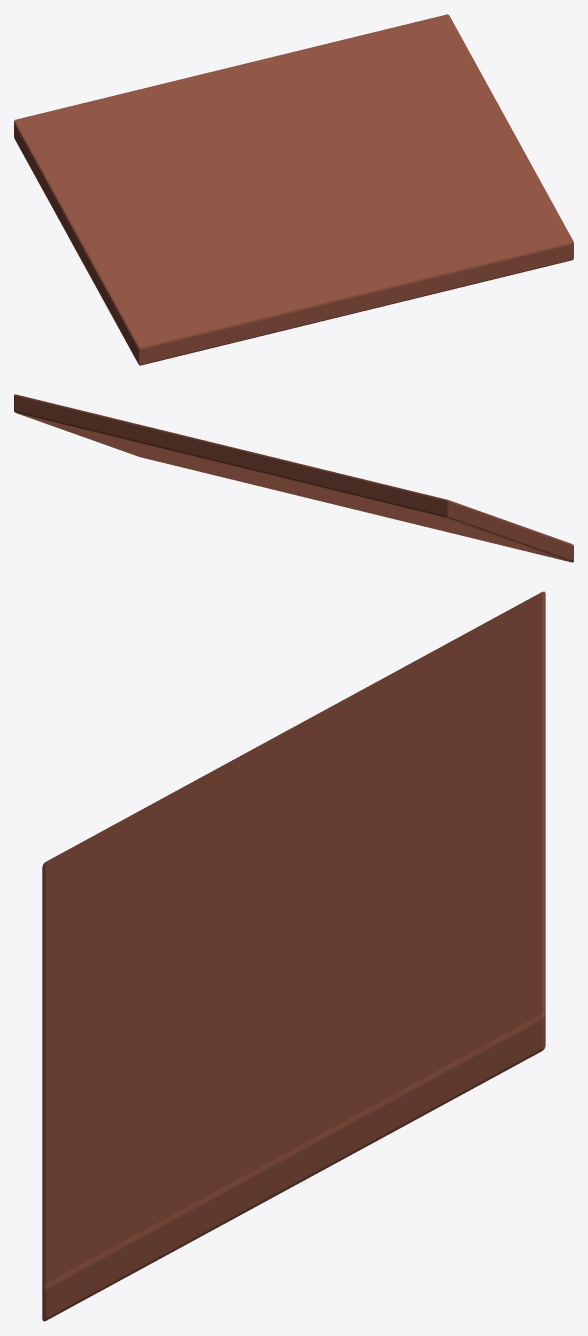
Rendered from roof_gable_slope_4p4x2p2.glb.
3 views of the same model, one above another, from view 1: azimuth 30°, elevation 25°; view 2: azimuth 150°, elevation 25°; view 3: azimuth 270°, elevation 25° (orthographic). The views are drawn at different scales.
Parts seen in each view (by area): view 1: roof_gable_slope; view 2: roof_gable_slope; view 3: roof_gable_slope.
Boxes of the visible parts, left/top/right/bottom form: roof_gable_slope: left=14, top=14, right=573, bottom=365; roof_gable_slope: left=14, top=394, right=573, bottom=562; roof_gable_slope: left=42, top=591, right=545, bottom=1321.
Bounding box in the file's own units: 4.4 × 1.49 × 2.2.
